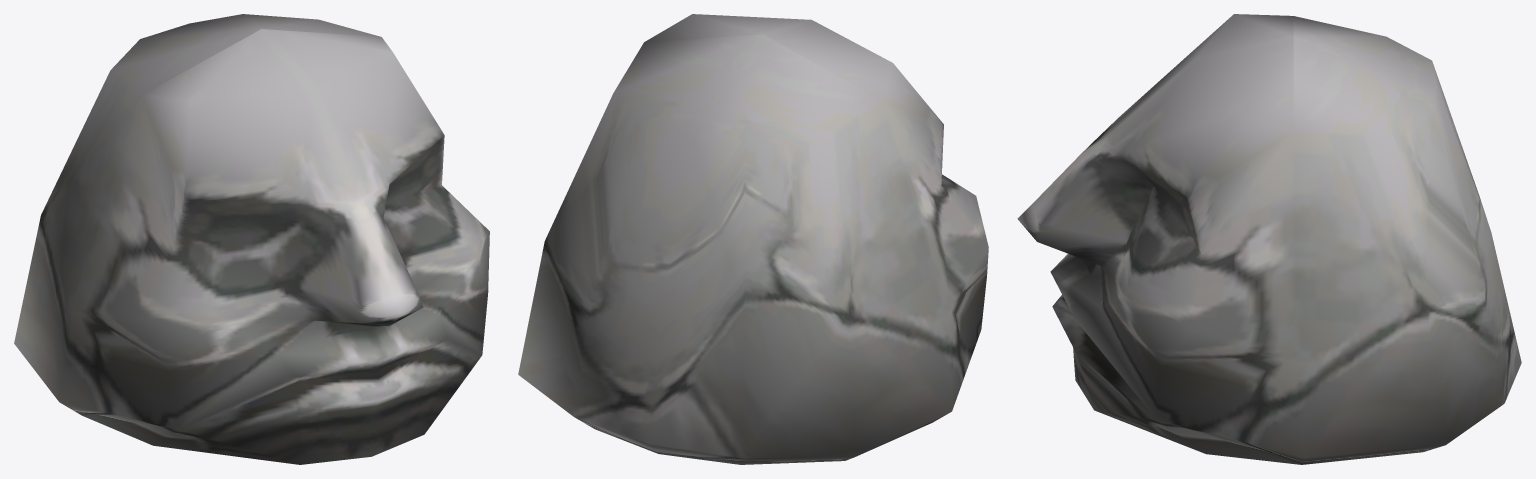
The model's file is stoneFace.fbx.
3 views of the same model, side by side, from view 1: azimuth 30°, elevation 25°; view 2: azimuth 150°, elevation 25°; view 3: azimuth 270°, elevation 25° (orthographic).
Visible parts, largest first — view 1: ekao; view 2: ekao; view 3: ekao.
Part boxes in pixels (x1,y1,x2,y2): ekao: [14, 14, 489, 464]; ekao: [518, 14, 988, 464]; ekao: [1017, 14, 1521, 464].
Size of the model in its own units: 50784 by 43801 by 57003.
